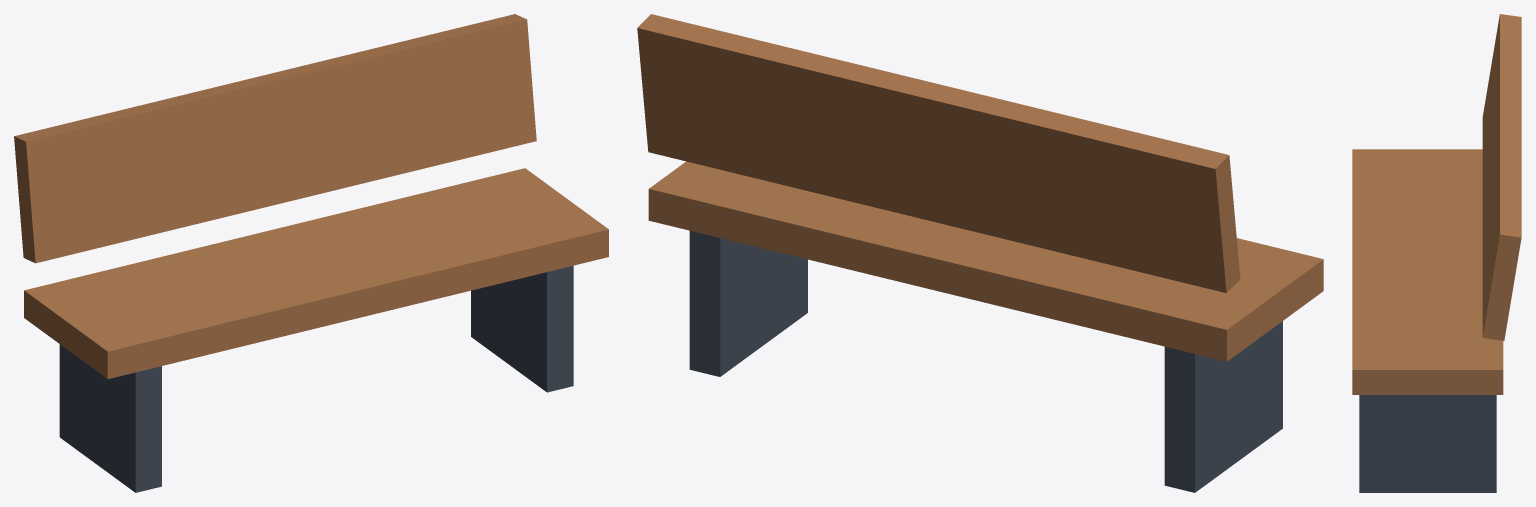
File: bench.glb
3 renders of one model, left to right at view 1: azimuth 30°, elevation 25°; view 2: azimuth 150°, elevation 25°; view 3: azimuth 270°, elevation 25°, orthographic. The views are drawn at different scales.
Parts seen in each view (by area): view 1: bench_0, bench_1; view 2: bench_0, bench_1; view 3: bench_0, bench_1.
Boxes of the visible parts, x1,y1,x2,y2 form: bench_0: (14,14,608,378); bench_1: (59,265,573,492); bench_0: (637,14,1323,361); bench_1: (689,231,1282,492); bench_0: (1352,14,1521,394); bench_1: (1359,395,1496,492).
Size of the model in its own units: 1.9 by 1.09 by 0.6159.
